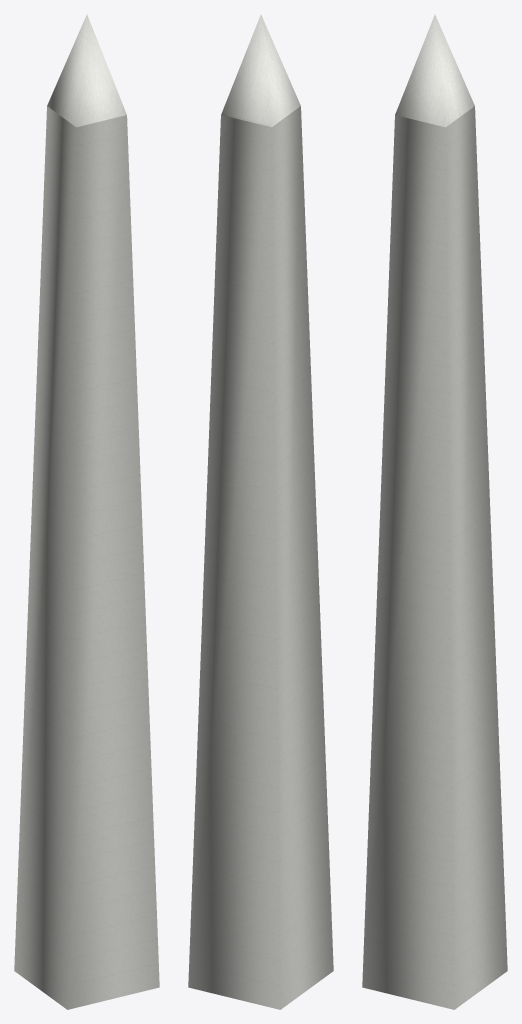
The model's file is bldg_far_02.glb.
3 renders of one model, left to right at view 1: azimuth 30°, elevation 25°; view 2: azimuth 150°, elevation 25°; view 3: azimuth 330°, elevation 25°, orthographic.
Visible parts, largest first — view 1: bldg_far_02.spire, bldg_far_02.tip; view 2: bldg_far_02.spire, bldg_far_02.tip; view 3: bldg_far_02.spire, bldg_far_02.tip.
Part boxes in pixels (<box>): bldg_far_02.spire: <box>14,106,159,1009</box>; bldg_far_02.tip: <box>47,14,126,127</box>; bldg_far_02.spire: <box>188,106,333,1009</box>; bldg_far_02.tip: <box>221,14,300,127</box>; bldg_far_02.spire: <box>362,106,507,1009</box>; bldg_far_02.tip: <box>395,14,474,127</box>.
Size of the model in its own units: 7.94 by 79.42 by 7.94.
1 material, 1 textured.
